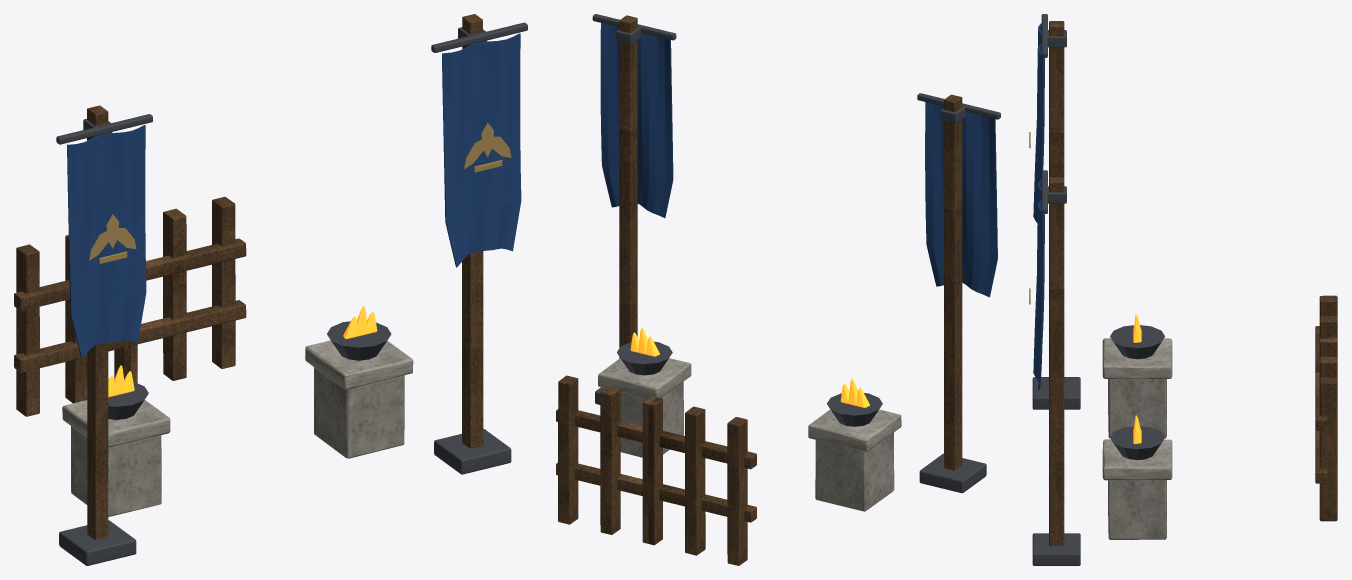
File: defensive_props-LOD1.glb
3 renders of one model, left to right at view 1: azimuth 30°, elevation 25°; view 2: azimuth 150°, elevation 25°; view 3: azimuth 270°, elevation 25°, orthographic. The views are drawn at different scales.
Visible parts, largest first — view 1: V3 complete props / Royal blue Valoria banner.001, Banner freestanding oak mount, V3 complete props / Torch pedestal.001, V3 complete props / Iron brazier bowl.001, V3 complete props / Torch stone cap.001, V3 complete props / Valoria lily embroidery.005, V3 complete props / Carved ember flame.005; view 2: Banner freestanding oak mount, V3 complete props / Royal blue Valoria banner.001, V3 complete props / Torch pedestal.001, V3 complete props / Iron brazier bowl.001, V3 complete props / Torch stone cap.001, V3 complete props / Carved ember flame.005; view 3: Banner freestanding oak mount, V3 complete props / Torch pedestal.001, V3 complete props / Iron brazier bowl.001, V3 complete props / Torch stone cap.001, V3 complete props / Royal blue Valoria banner.001, V3 complete props / Carved ember flame.005.
Part boxes in pixels (bbox=[...]): V3 complete props / Royal blue Valoria banner.001: bbox=[67, 33, 521, 358]; Banner freestanding oak mount: bbox=[14, 14, 483, 539]; V3 complete props / Torch pedestal.001: bbox=[71, 367, 404, 516]; V3 complete props / Iron brazier bowl.001: bbox=[56, 22, 527, 565]; V3 complete props / Torch stone cap.001: bbox=[62, 340, 413, 447]; V3 complete props / Valoria lily embroidery.005: bbox=[89, 123, 511, 264]; V3 complete props / Carved ember flame.005: bbox=[108, 306, 377, 397]; Banner freestanding oak mount: bbox=[556, 15, 962, 565]; V3 complete props / Royal blue Valoria banner.001: bbox=[600, 23, 997, 297]; V3 complete props / Torch pedestal.001: bbox=[620, 382, 894, 511]; V3 complete props / Iron brazier bowl.001: bbox=[592, 14, 1000, 493]; V3 complete props / Torch stone cap.001: bbox=[598, 358, 901, 451]; V3 complete props / Carved ember flame.005: bbox=[630, 327, 869, 407]; Banner freestanding oak mount: bbox=[1049, 21, 1337, 545]; V3 complete props / Torch pedestal.001: bbox=[1108, 379, 1166, 539]; V3 complete props / Iron brazier bowl.001: bbox=[1032, 14, 1164, 565]; V3 complete props / Torch stone cap.001: bbox=[1102, 338, 1172, 480]; V3 complete props / Royal blue Valoria banner.001: bbox=[1033, 23, 1044, 390]; V3 complete props / Carved ember flame.005: bbox=[1133, 314, 1141, 443].
Bounding box in the file's own units: 5.18 × 4.65 × 3.45.
7 materials, 3 textured.
